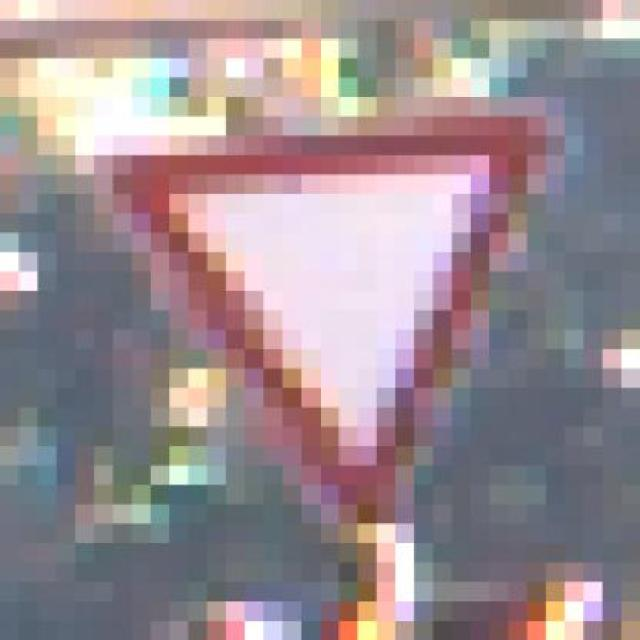Give Way: (56, 97, 584, 543)
